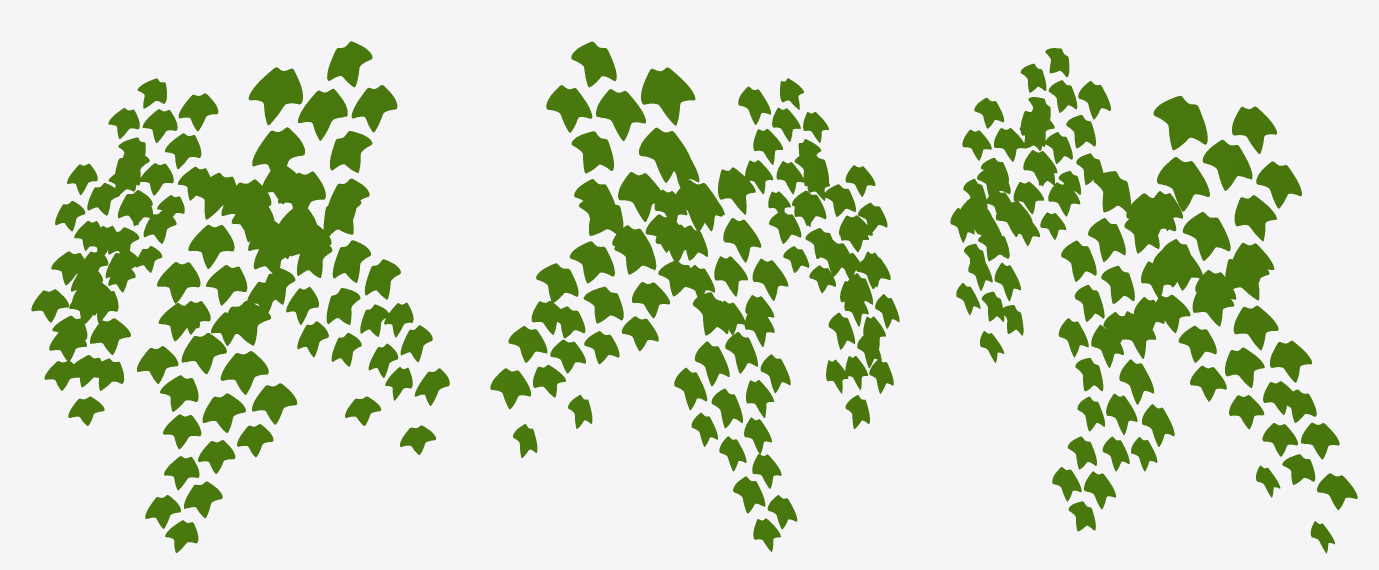
The model's file is Prop_Vine3.gltf.
3 renders of one model, left to right at view 1: azimuth 30°, elevation 25°; view 2: azimuth 150°, elevation 25°; view 3: azimuth 330°, elevation 25°, orthographic.
Visible parts, largest first — view 1: Prop_Vine3; view 2: Prop_Vine3; view 3: Prop_Vine3.
Boxes of the visible parts, left/top/right/bottom form: Prop_Vine3: left=31, top=41, right=449, bottom=552; Prop_Vine3: left=490, top=41, right=899, bottom=551; Prop_Vine3: left=950, top=48, right=1357, bottom=553.
Bounding box in the file's own units: 1.89 × 2.1 × 0.2137.
Materials: 1 (1 with a texture image).
